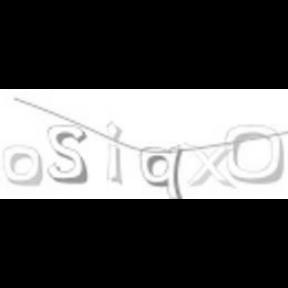O: (224, 123, 284, 185)
S: (46, 122, 88, 184)
i: (103, 119, 125, 186)
o: (1, 144, 43, 186)
q: (139, 144, 183, 199)
x: (185, 141, 235, 189)
